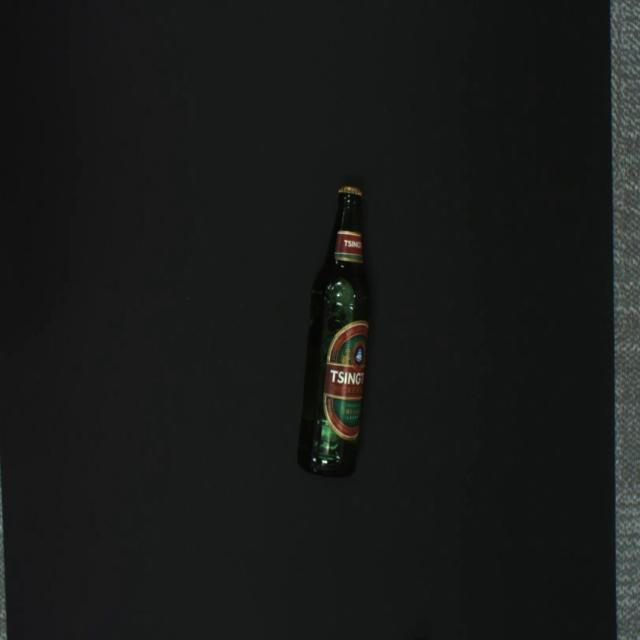beer-bottle: (297, 185, 372, 480)
